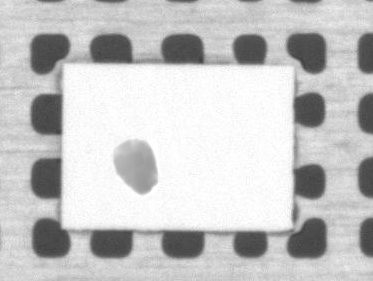DIE_INK: (143, 100, 215, 150)
